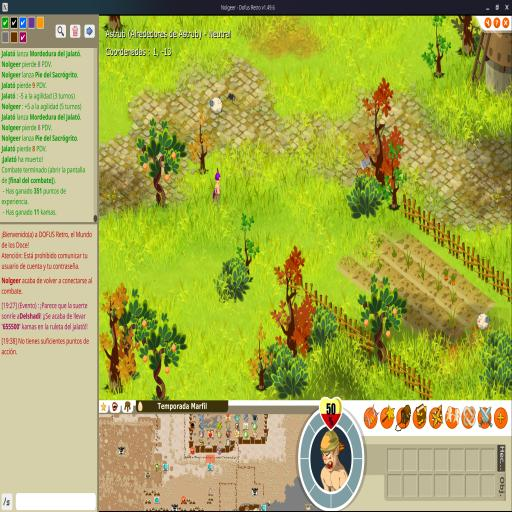Enemigos: (209, 96, 223, 115), (477, 313, 490, 331), (227, 93, 237, 103)
Personaje: (212, 167, 222, 206)
